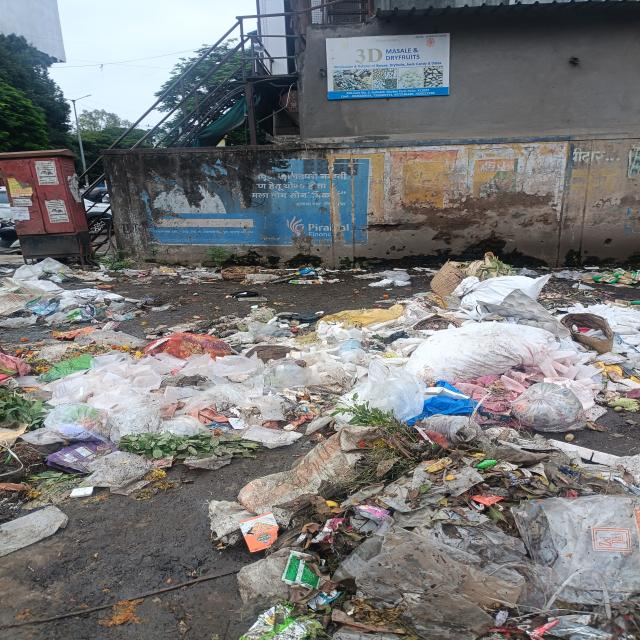garbage: (247, 269, 640, 632), (7, 326, 238, 516), (0, 262, 114, 334)
